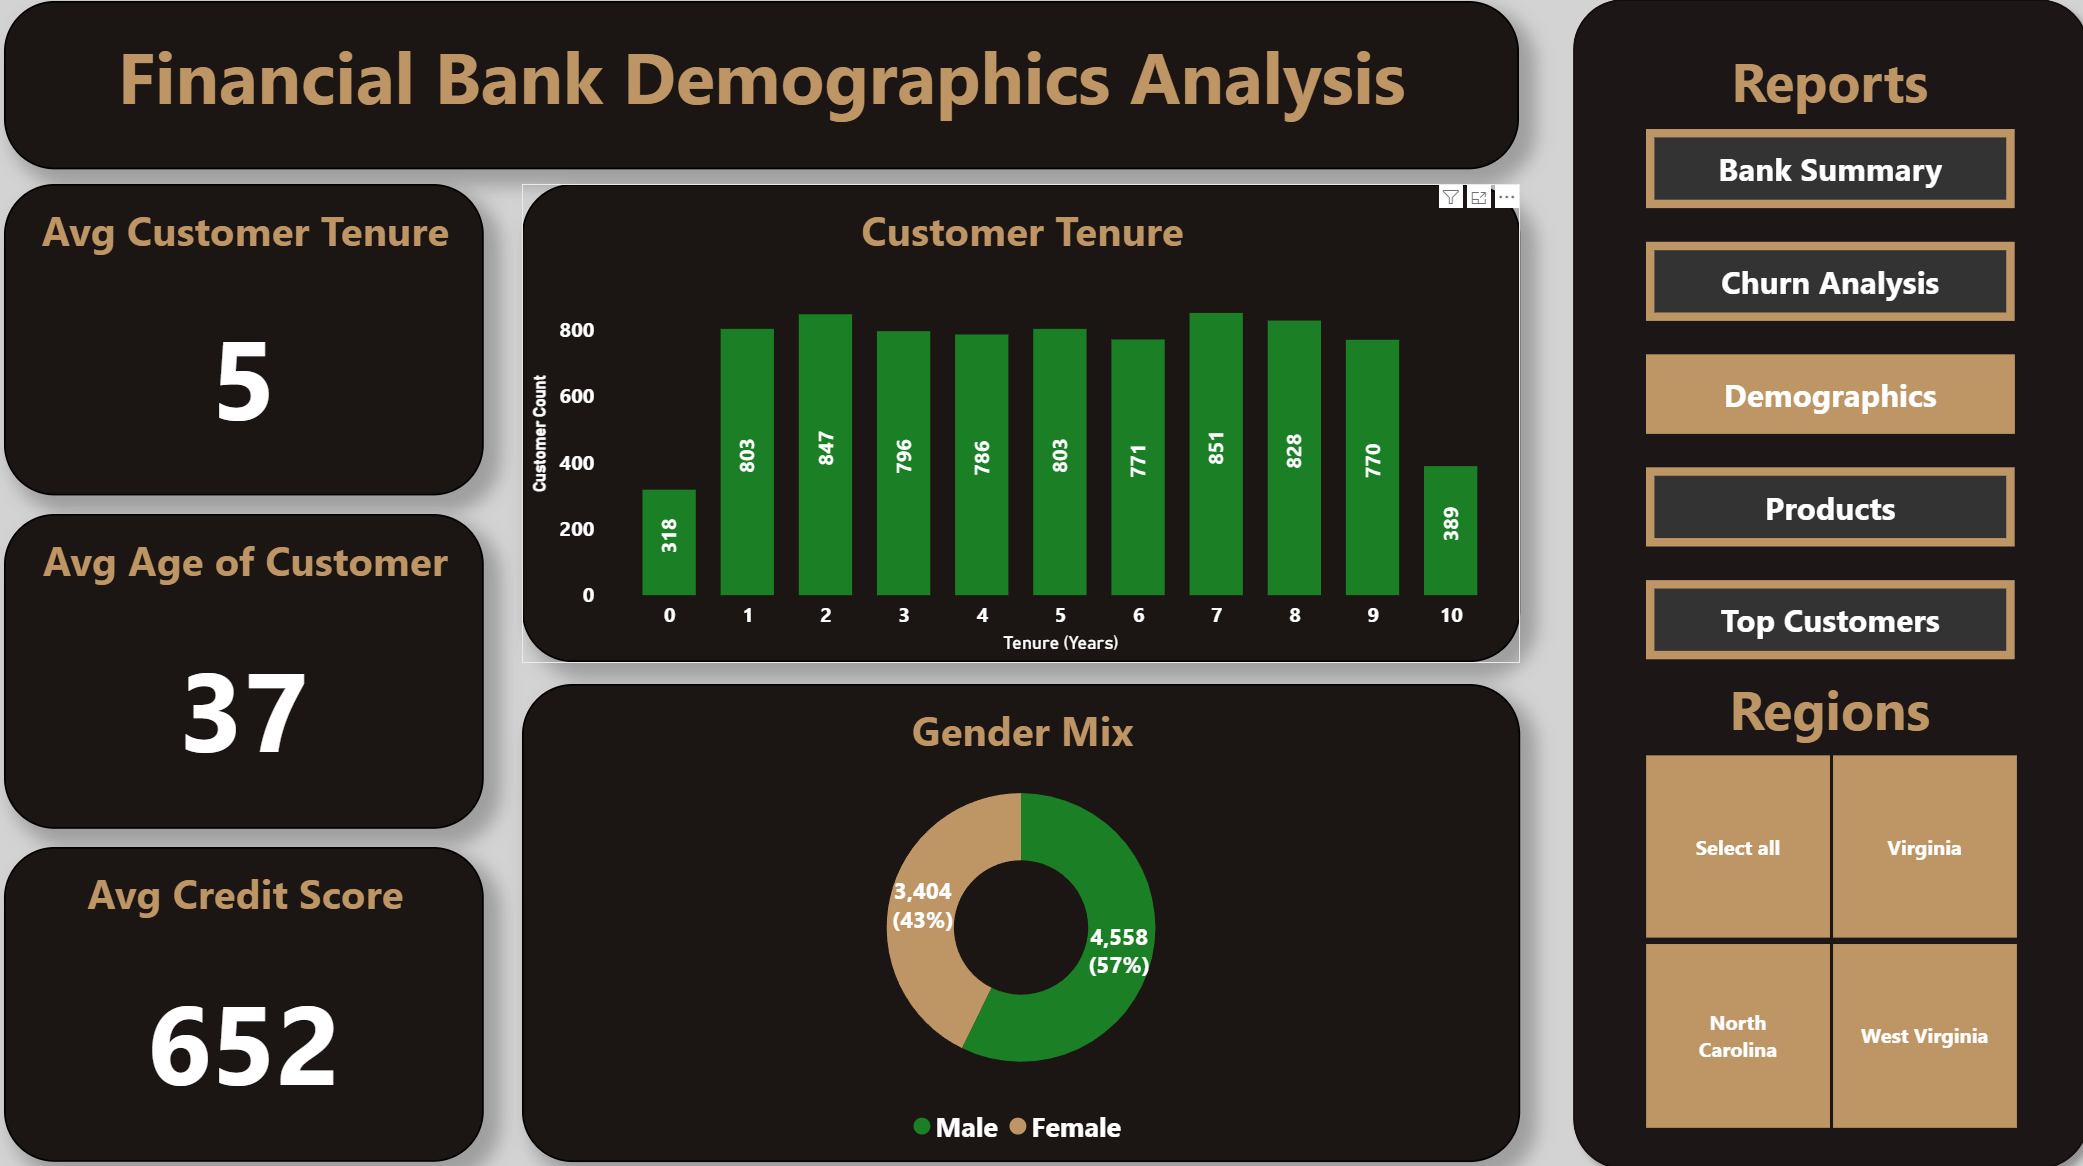

Layout of this report page (visuals, bound fields, positions):
{"tool":"powerbi","page":{"name":"Demographics","canvas":[1280,720],"ordinal":2},"visuals":[{"type":"card","title":"Avg Age of Customer","fields":{"Values":["Avg(BankData.Age)"]},"box":[16.8,318,285,186.6],"z":0},{"type":"textbox","box":[16.7,13.3,900,100],"z":1000},{"type":"shape","box":[939.9,3,324.4,713],"z":2000},{"type":"slicer","title":"Regions","fields":{"Values":["BankData.Geography"]},"box":[971.3,406.3,259.8,282.5],"z":3000},{"type":"textbox","box":[976.1,38,250.2,49.8],"z":4000},{"type":"donutChart","title":"Gender Mix","fields":{"Category":["BankData.Gender"],"Y":["CountNonNull(BankData.Gender)"]},"box":[324.4,418.5,592.9,284.3],"z":5000},{"type":"columnChart","title":"Customer Tenure","fields":{"Category":["BankData.Tenure"],"Y":["CountNonNull(BankData.IsActiveMember)"]},"box":[324.4,122.1,592.9,284.3],"z":6000},{"type":"card","title":"Avg Credit Score","fields":{"Values":["Avg(BankData.CreditScore)"]},"box":[16.8,515.6,285,186.6],"z":7000},{"type":"pageNavigator","box":[992.2,89.3,219.5,316.1],"z":8000},{"type":"card","title":"Avg Customer Tenure","fields":{"Values":["Avg(BankData.Tenure)"]},"box":[16.8,121.8,285,185.3],"z":8001}]}

Visuals, with their boxes in screenshot pixels (x1, y1, x2, y2), scaled from the page's 1280x720 canvas onto the 2083x1166 screenshot:
"Avg Age of Customer" card: 27 515 491 817
textbox: 27 22 1492 183
shape: 1530 5 2057 1160
"Regions" slicer: 1581 658 2003 1115
textbox: 1588 62 1996 142
"Gender Mix" donutChart: 528 678 1493 1138
"Customer Tenure" columnChart: 528 198 1493 658
"Avg Credit Score" card: 27 835 491 1137
pageNavigator: 1615 145 1972 657
"Avg Customer Tenure" card: 27 197 491 497
